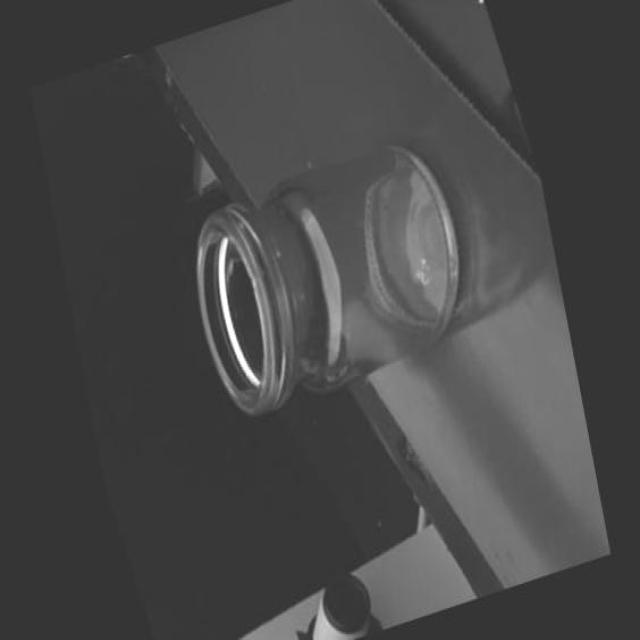defect: (242, 259, 266, 298), (270, 244, 284, 263)
glass: (157, 80, 497, 466)
